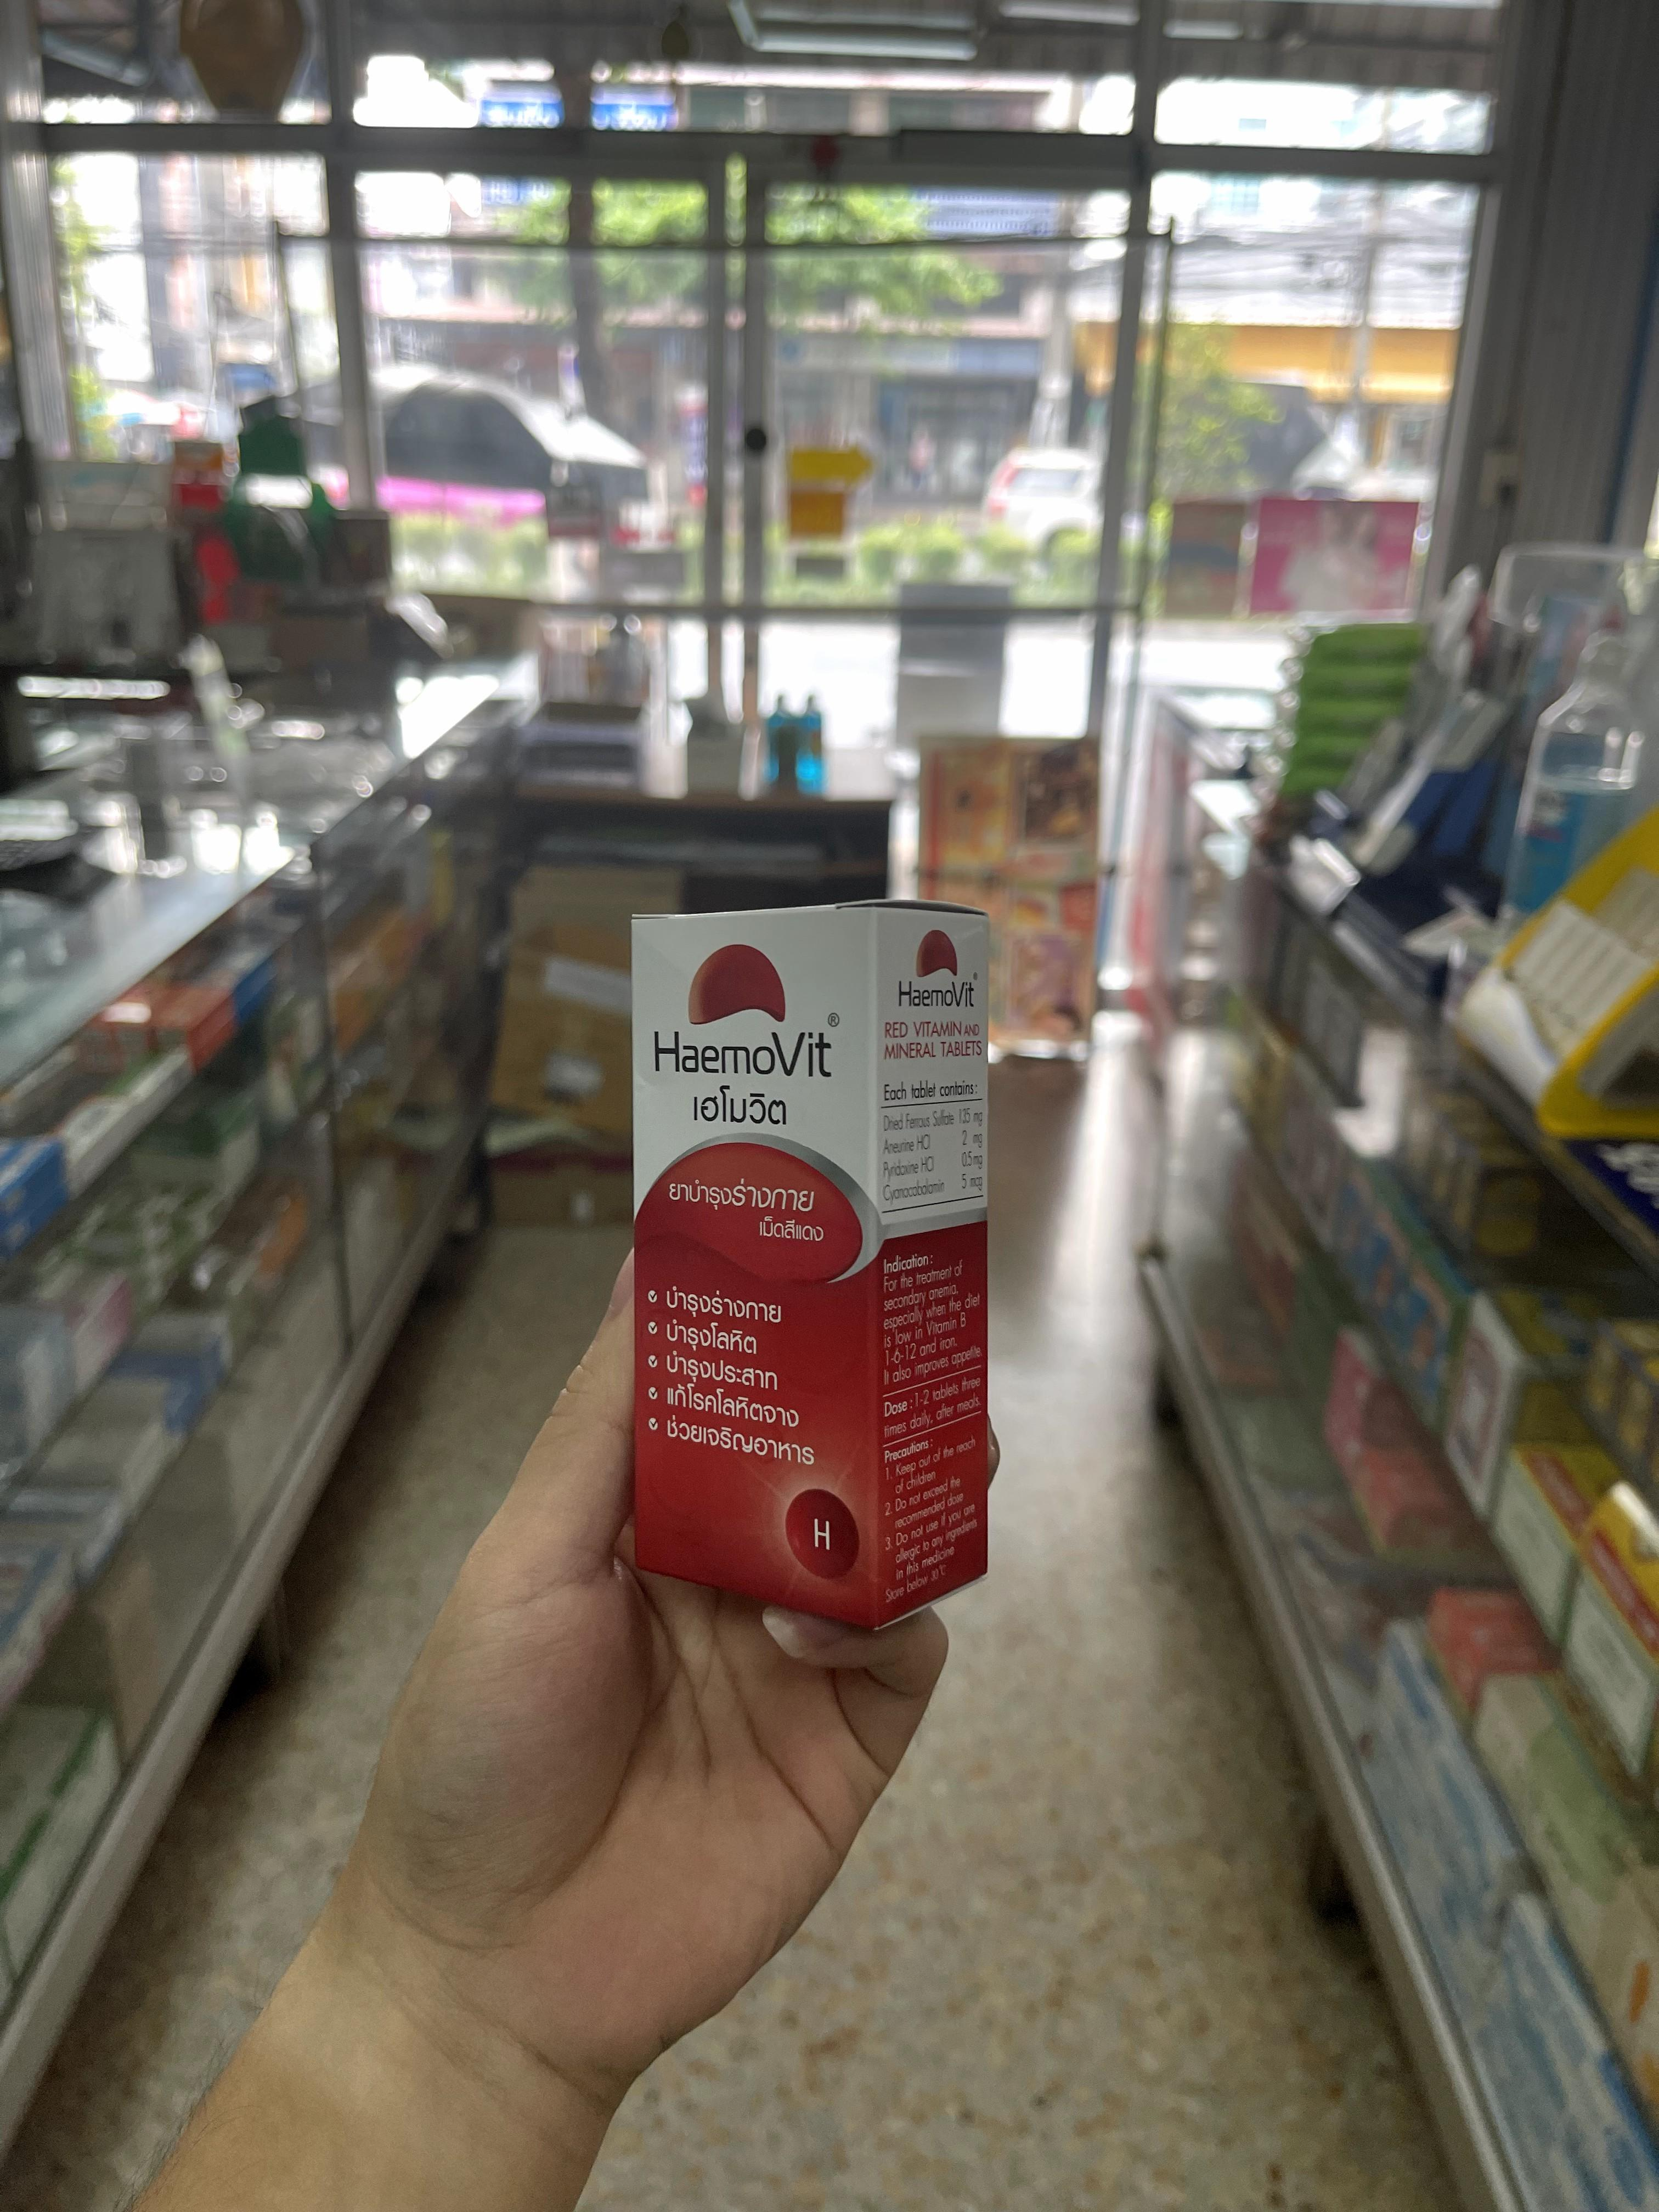Heamovit: (626, 894, 999, 1632)
